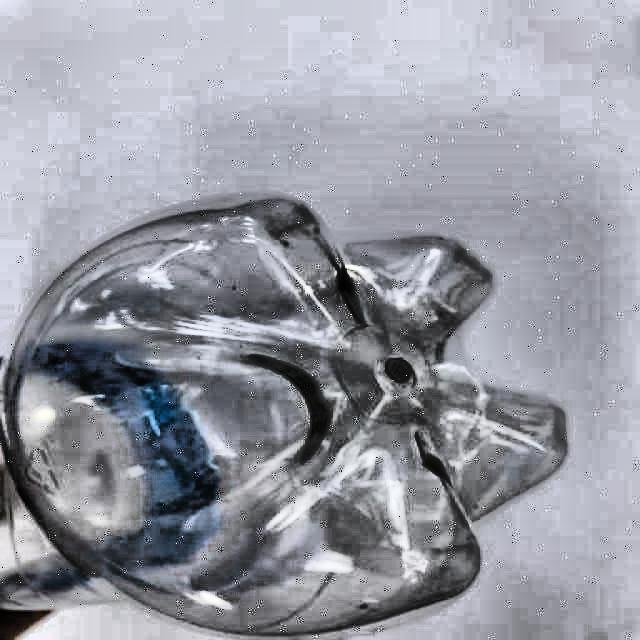plastic: (0, 196, 568, 636)
